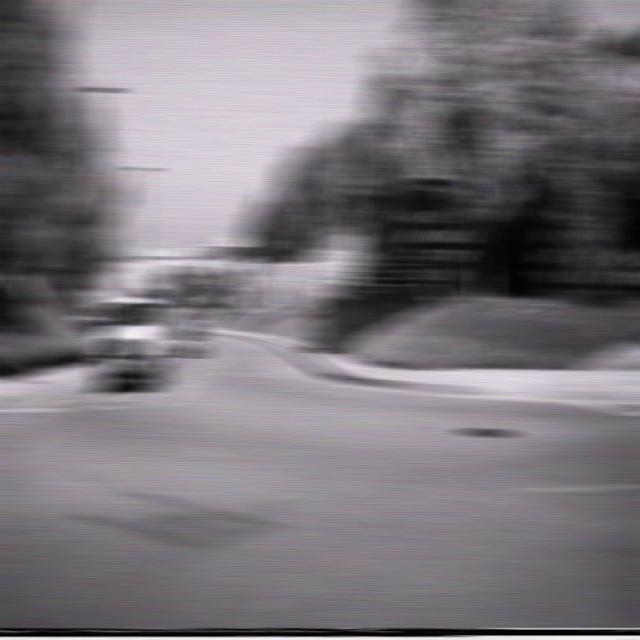speedLimit25: (338, 234, 364, 265)
